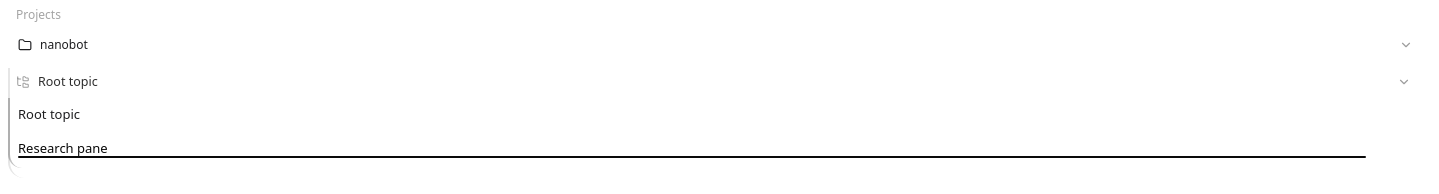
it: ChatList › collapses a multi-pane tab into one Chrome-style group header
expect the icon with class "lucide-folder-tree" is shown: met, box [16,75,30,89]
expect the list item named "Group: Root topic" does not show "2/4": met, box [10,68,1422,168]
Click the button named "Collapse panes in Root topic".
click(1404, 82)  # box [1392,70,1416,94]
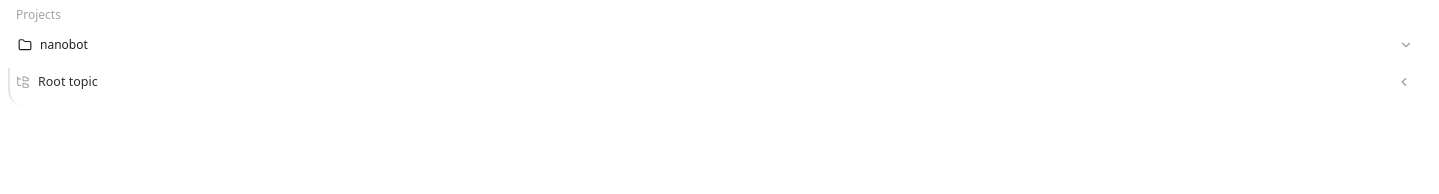
expect the button "Research pane" is gone: met
expect the button named "Expand panes in Root topic" is collapsed: met
Click the button named "Expand panes in Root topic".
click(1404, 82)  # box [1392,70,1416,94]
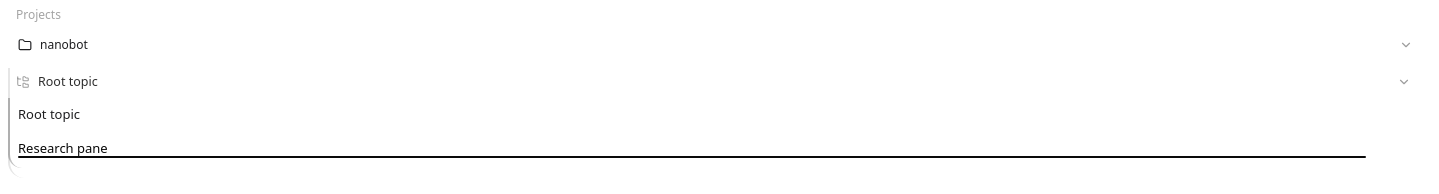
expect the button "Research pane" is shown: met, box [18,132,1366,164]
expect the 2nd button "Root topic" is shown: met, box [18,98,1366,130]
